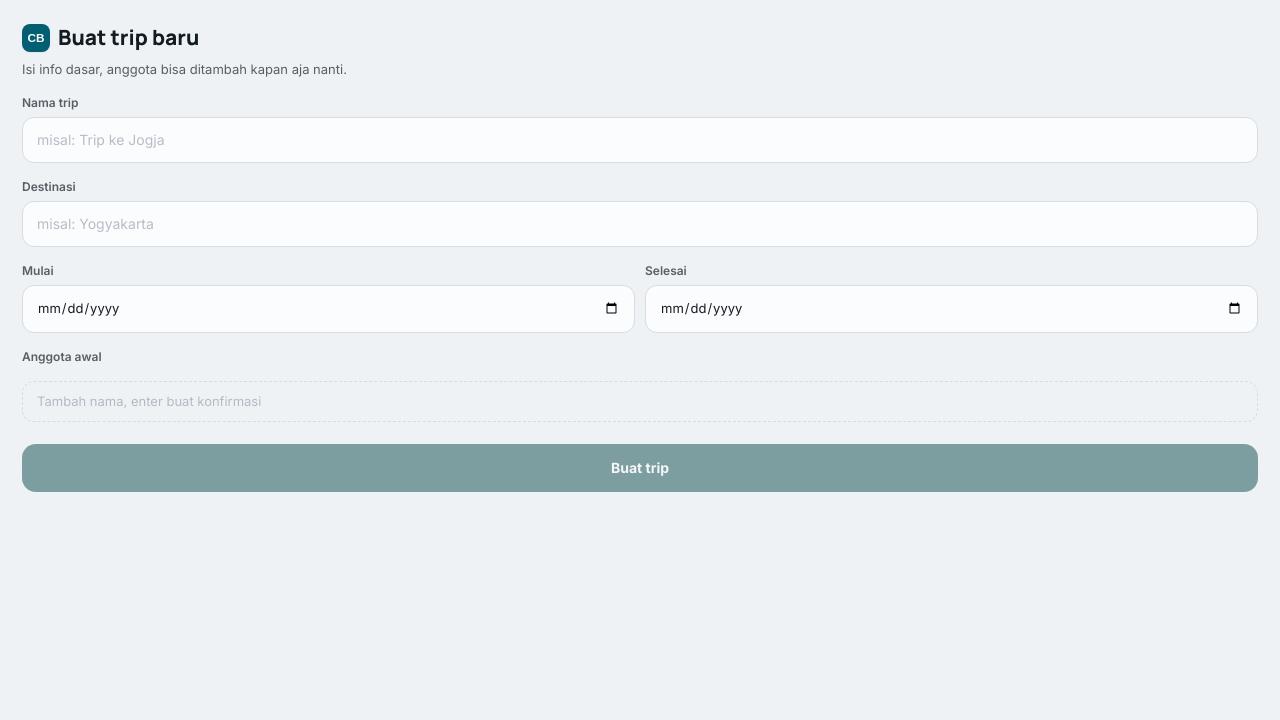
Scenario: NewTripScreen form › adds and removes members as chips
The width and height of the screenshot is (1280, 720).
Type "Budi" into the field with placeholder "Tambah nama, enter buat konfirmasi" at x=640, y=401, box x1=22 y1=380 x2=1258 y2=422
Then press Enter
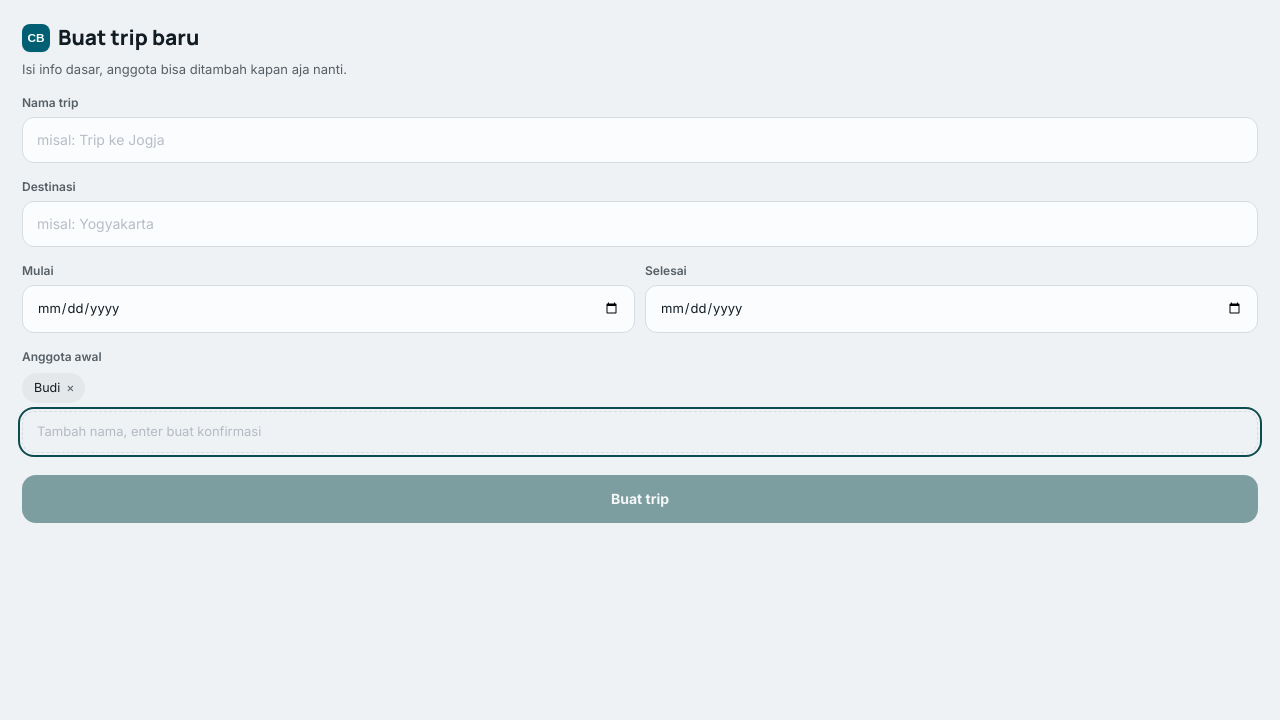
Check: the text "Budi" is shown, box x1=34 y1=380 x2=60 y2=394
Click the text "×" at x=70, y=388, box x1=66 y1=378 x2=75 y2=397
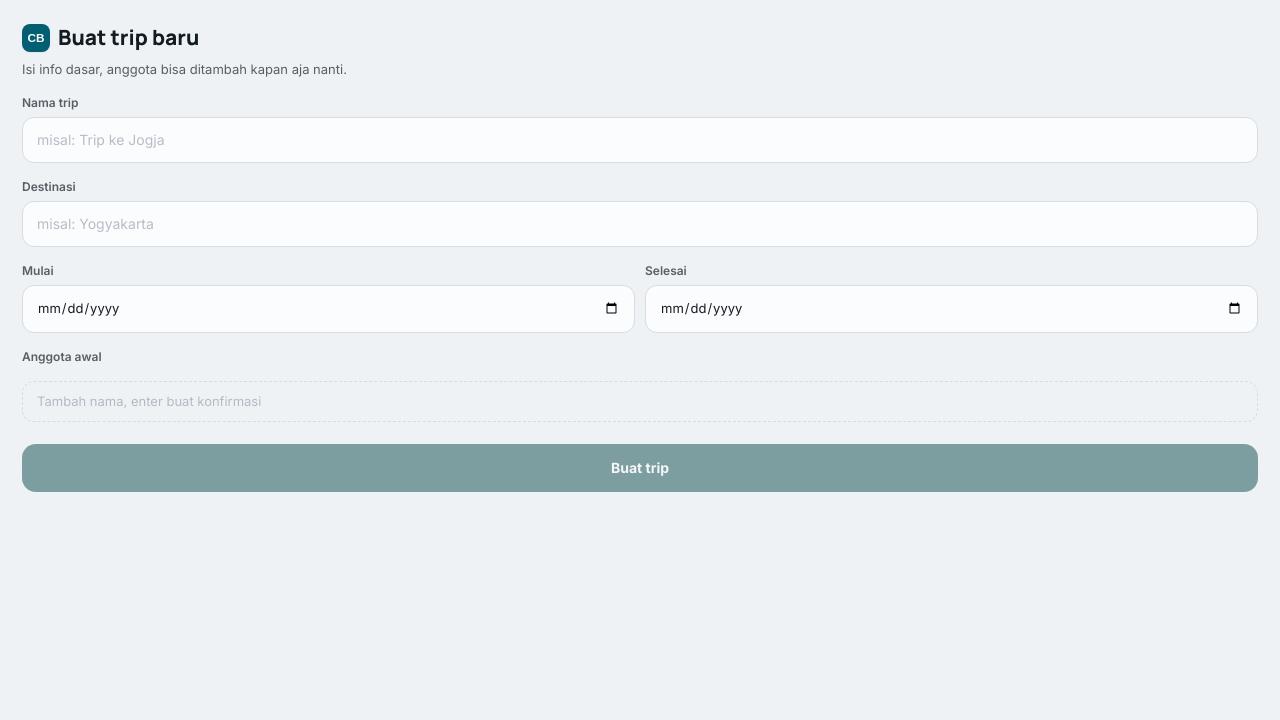
Check: the text "Budi" is gone
